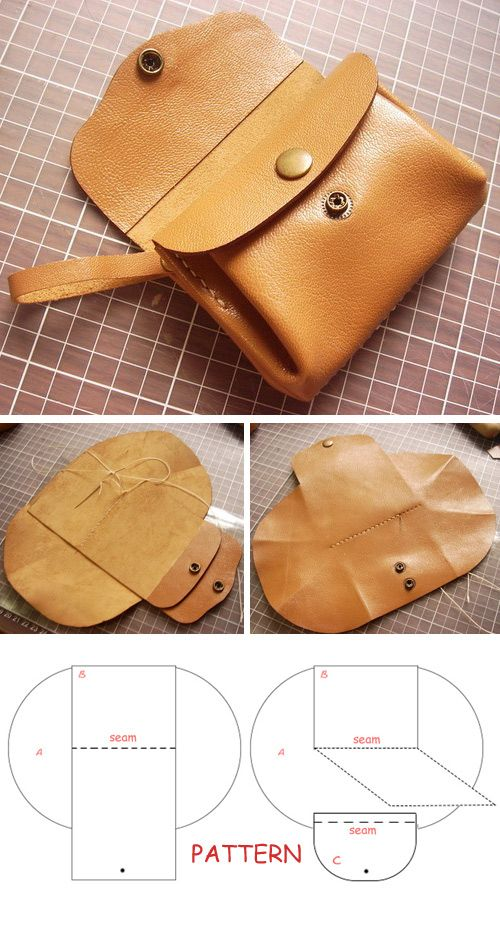cuero: (3, 12, 496, 631)
